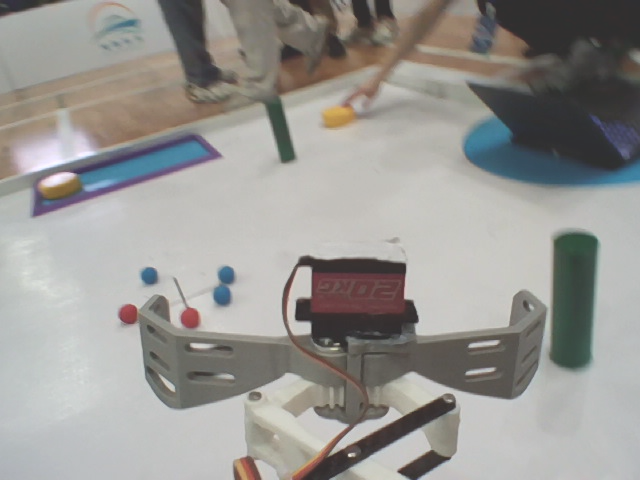blue: (214, 261, 240, 286), (212, 282, 235, 307), (137, 265, 163, 283)
kuang: (22, 127, 220, 220)
red: (115, 300, 144, 327), (177, 301, 204, 330)
yellow: (320, 100, 363, 132), (33, 174, 95, 196)
zhuzi: (553, 227, 602, 376), (252, 95, 298, 166)
